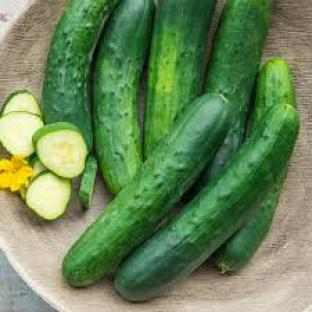Cucumber: (116, 106, 299, 300), (63, 95, 231, 287), (215, 170, 287, 273), (32, 123, 88, 178), (27, 172, 70, 220), (0, 111, 44, 156), (2, 91, 41, 115), (80, 156, 97, 209), (28, 154, 45, 178)
